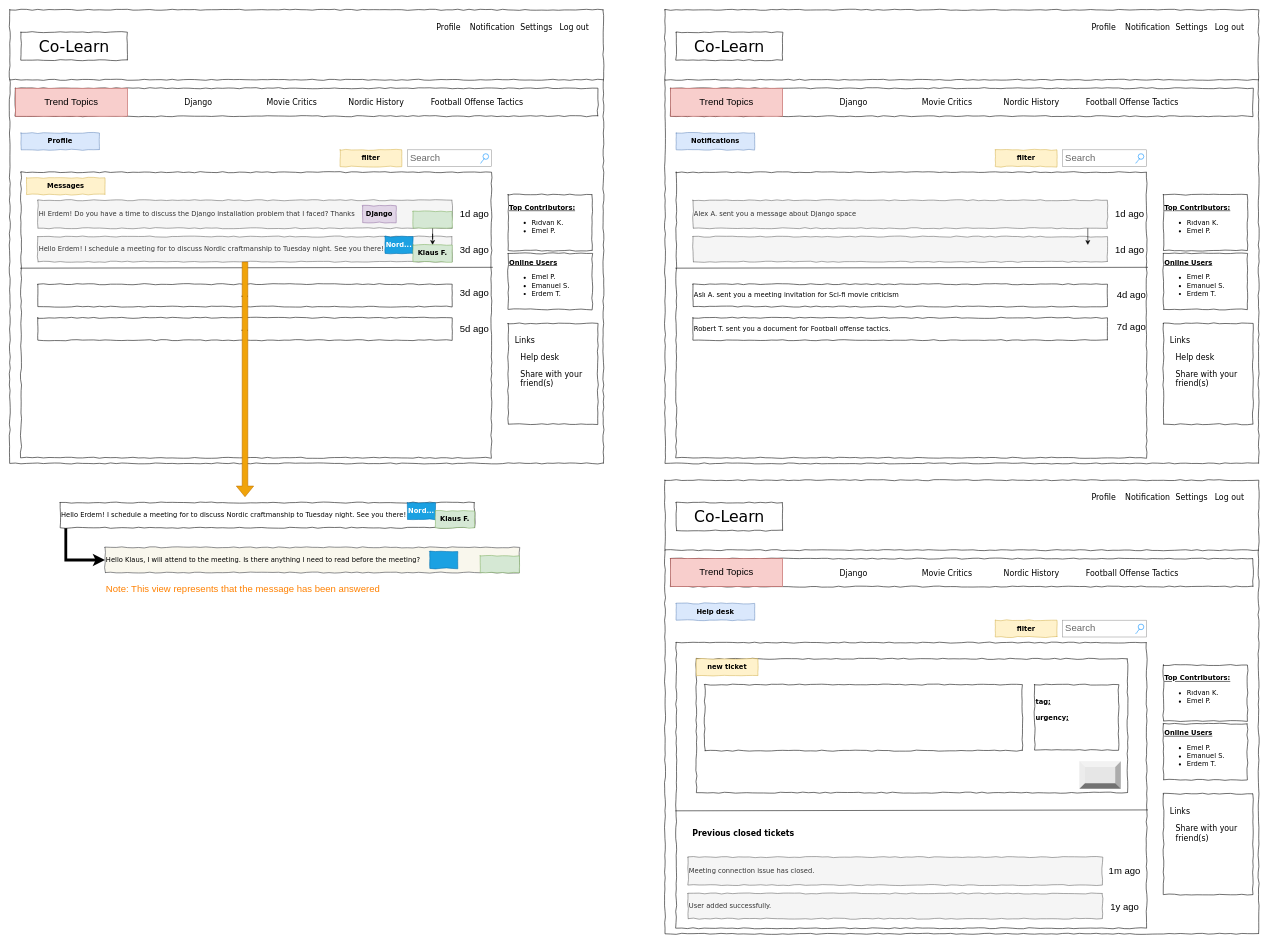
Image size: 1268x944. Some labels were removed from this diagram. The box of each missing label's shape, as (x1, y1, x2, y2) in pixels:
Alex A.: (412, 211, 452, 228)
Erdem T.: (480, 555, 519, 573)
Klaus F. sent you a message about Nordic History space.: (692, 236, 1107, 262)
Message: (704, 684, 1022, 751)
Nordic: (429, 551, 458, 568)
send: (1079, 761, 1121, 788)
